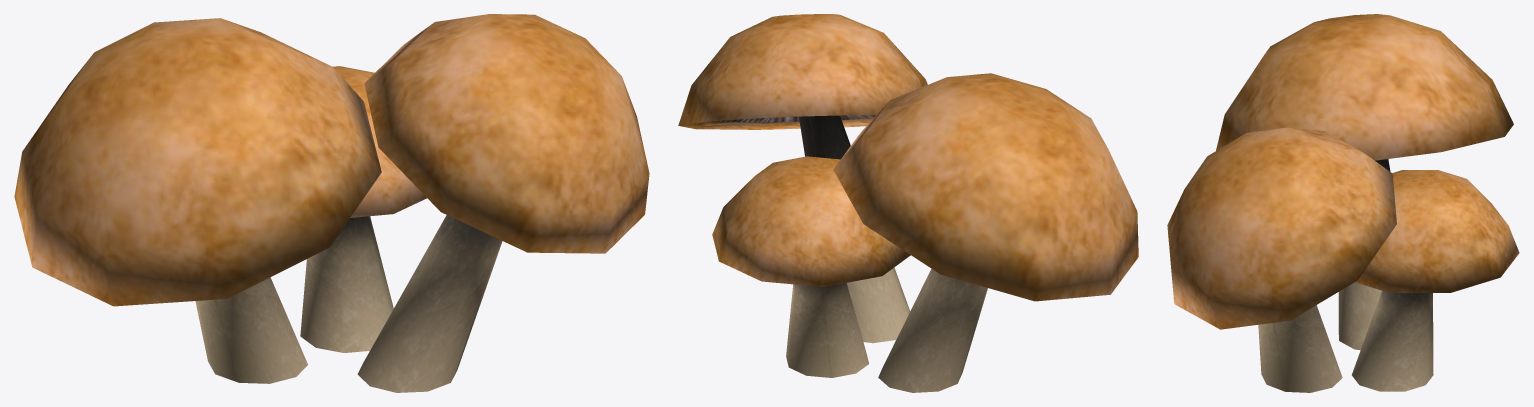
The model's file is mushroom 5.fbx.
3 views of the same model, side by side, from view 1: azimuth 30°, elevation 25°; view 2: azimuth 150°, elevation 25°; view 3: azimuth 270°, elevation 25° (orthographic). The views are drawn at different scales.
Parts seen in each view (by area): view 1: mushroom_5; view 2: mushroom_5; view 3: mushroom_5.
Part boxes in pixels (<box>): mushroom_5: <box>14,14,649,392</box>; mushroom_5: <box>678,14,1138,392</box>; mushroom_5: <box>1167,14,1519,392</box>.
Size of the model in its own units: 1.12 by 0.6859 by 0.7739.
